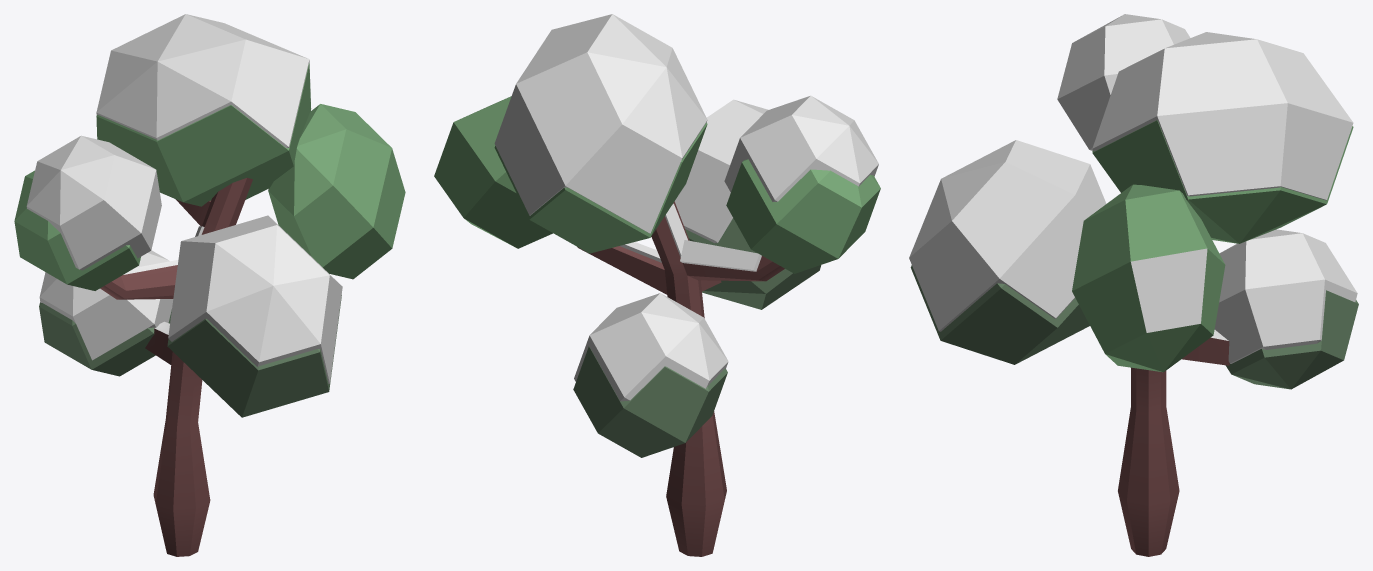
File: snow_tree01.fbx
The picture shows the model from 3 angles, left to right: view 1: azimuth 30°, elevation 25°; view 2: azimuth 150°, elevation 25°; view 3: azimuth 270°, elevation 25°; orthographic projection. The views are drawn at different scales.
Visible parts, largest first — view 1: pCylinder2; view 2: pCylinder2; view 3: pCylinder2.
Boxes of the visible parts, x1=… form: pCylinder2: x1=14, y1=14, x2=405, y2=556; pCylinder2: x1=434, y1=14, x2=880, y2=556; pCylinder2: x1=909, y1=14, x2=1358, y2=556.
Size of the model in its own units: 9.32 by 11.34 by 8.58.
